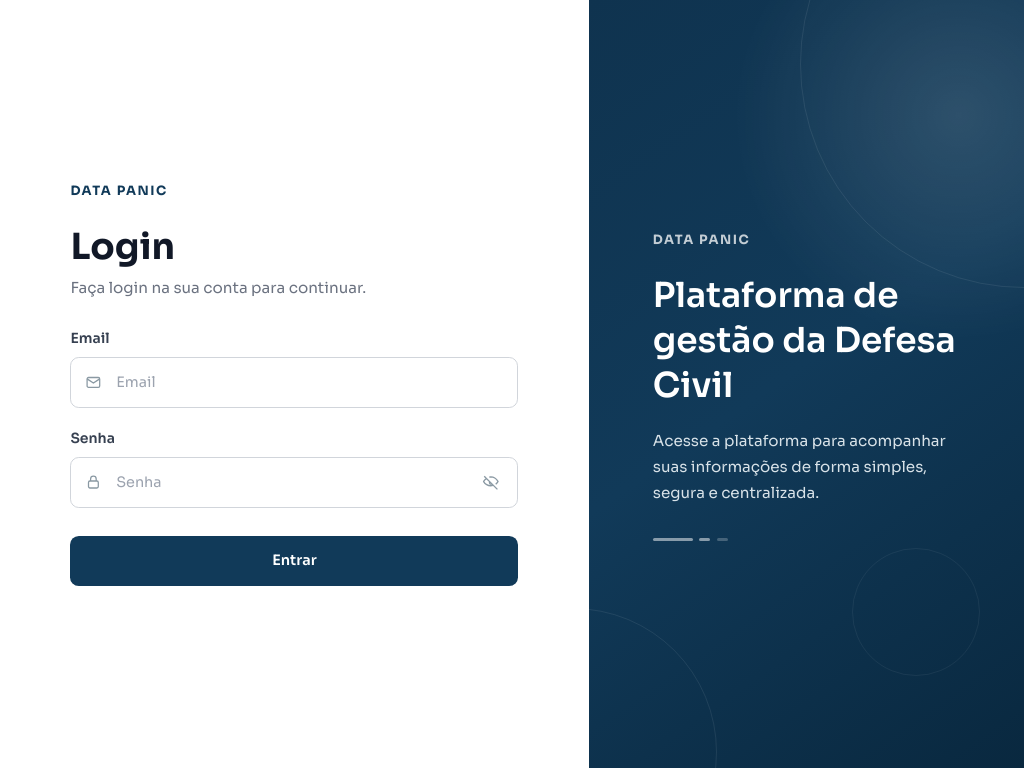
it: Página de login › mostra a mensagem da API quando as credenciais estão erradas
In the field with placeholder "Email": x=294, y=383 [70,357,518,408], type "admin@kp.dev"
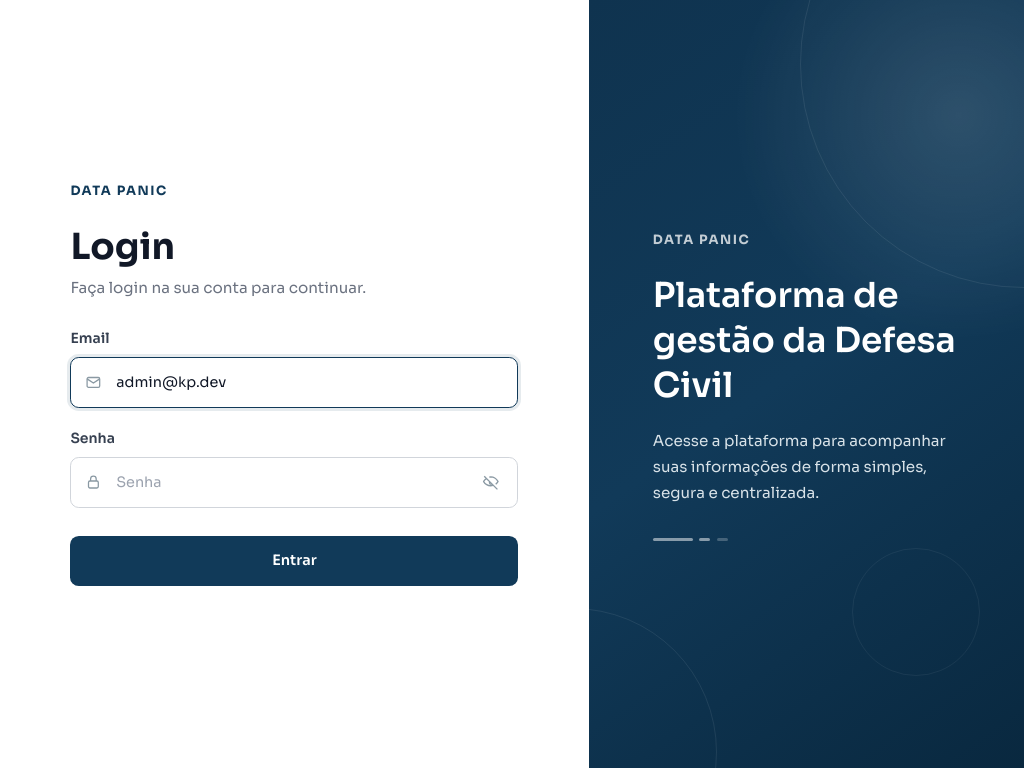
In the password field with placeholder "Senha": x=294, y=482 [70,457,518,508], type "senha-forte"
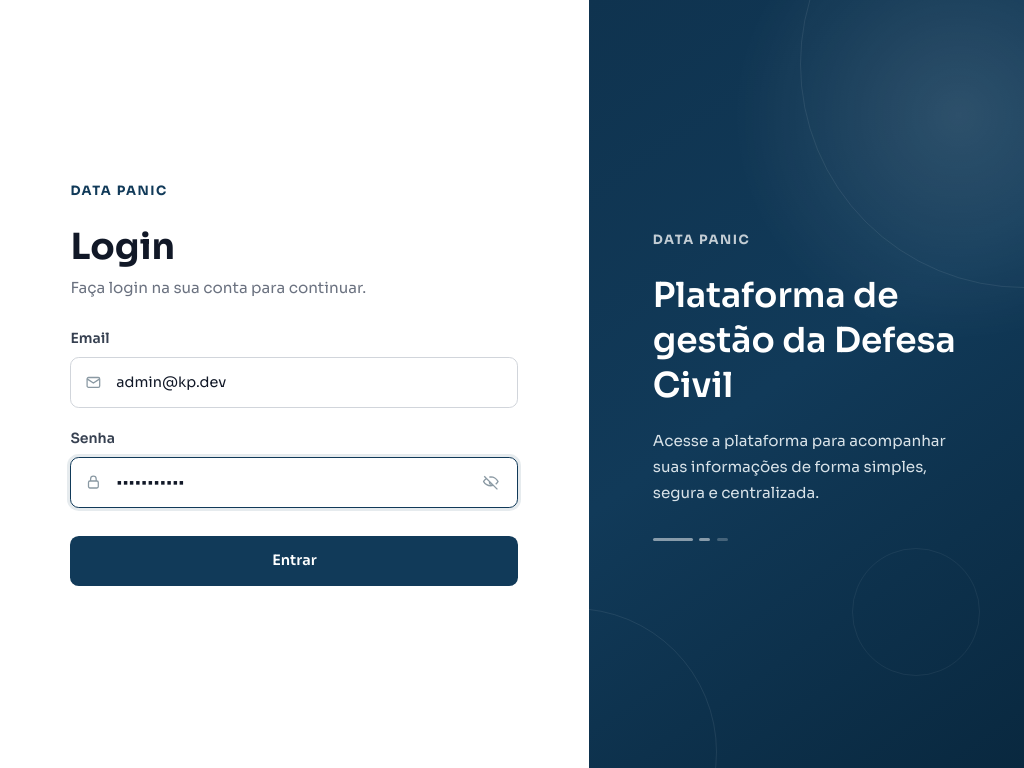
Click the button "Entrar": x=294, y=561 [70,536,518,586]
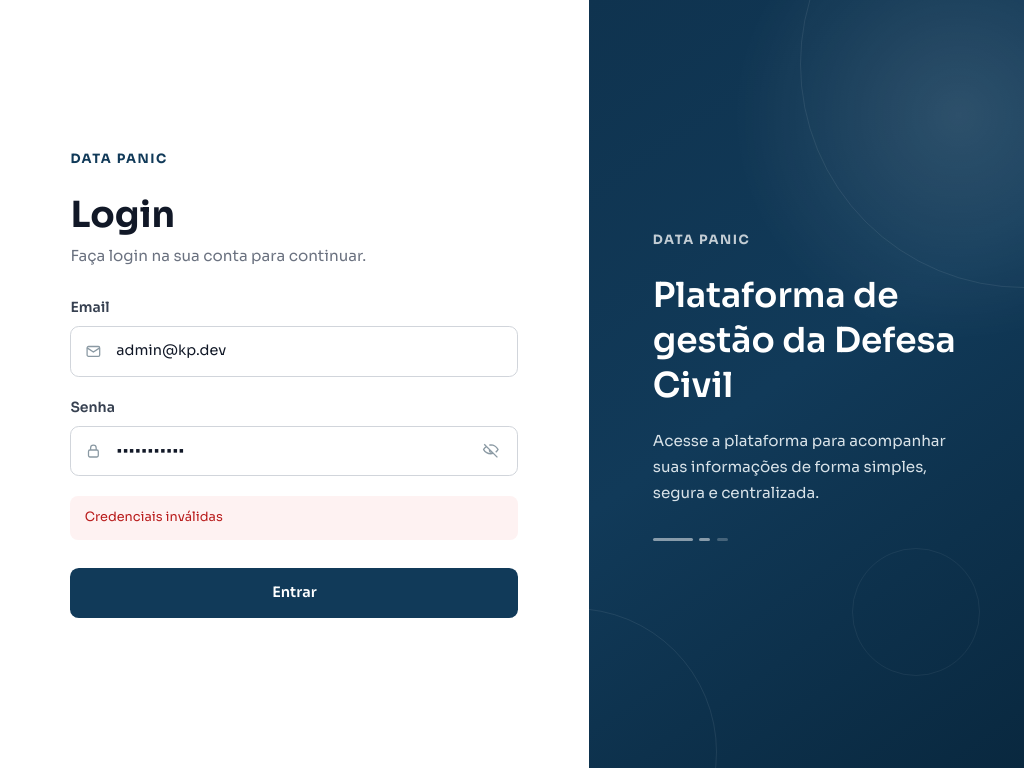
Result: the text "Credenciais inválidas" is shown at [70,496,518,540]
